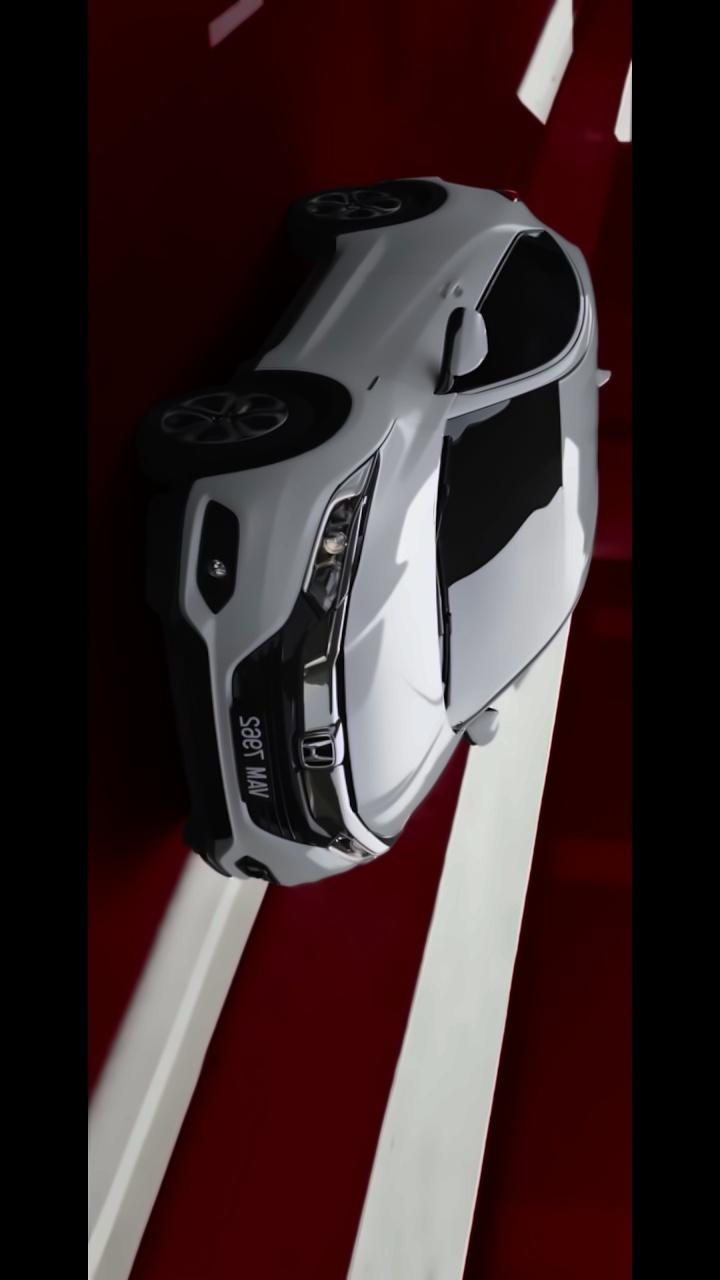Car hood: (338, 402, 466, 856)
Driver-s door - -F-R-: (268, 214, 596, 421)
Front bumper: (178, 462, 333, 915)
Headlight - -L-: (312, 806, 381, 876)
Headlight - -R-: (294, 448, 374, 623)
Side bumper - -R-: (239, 212, 366, 392)
